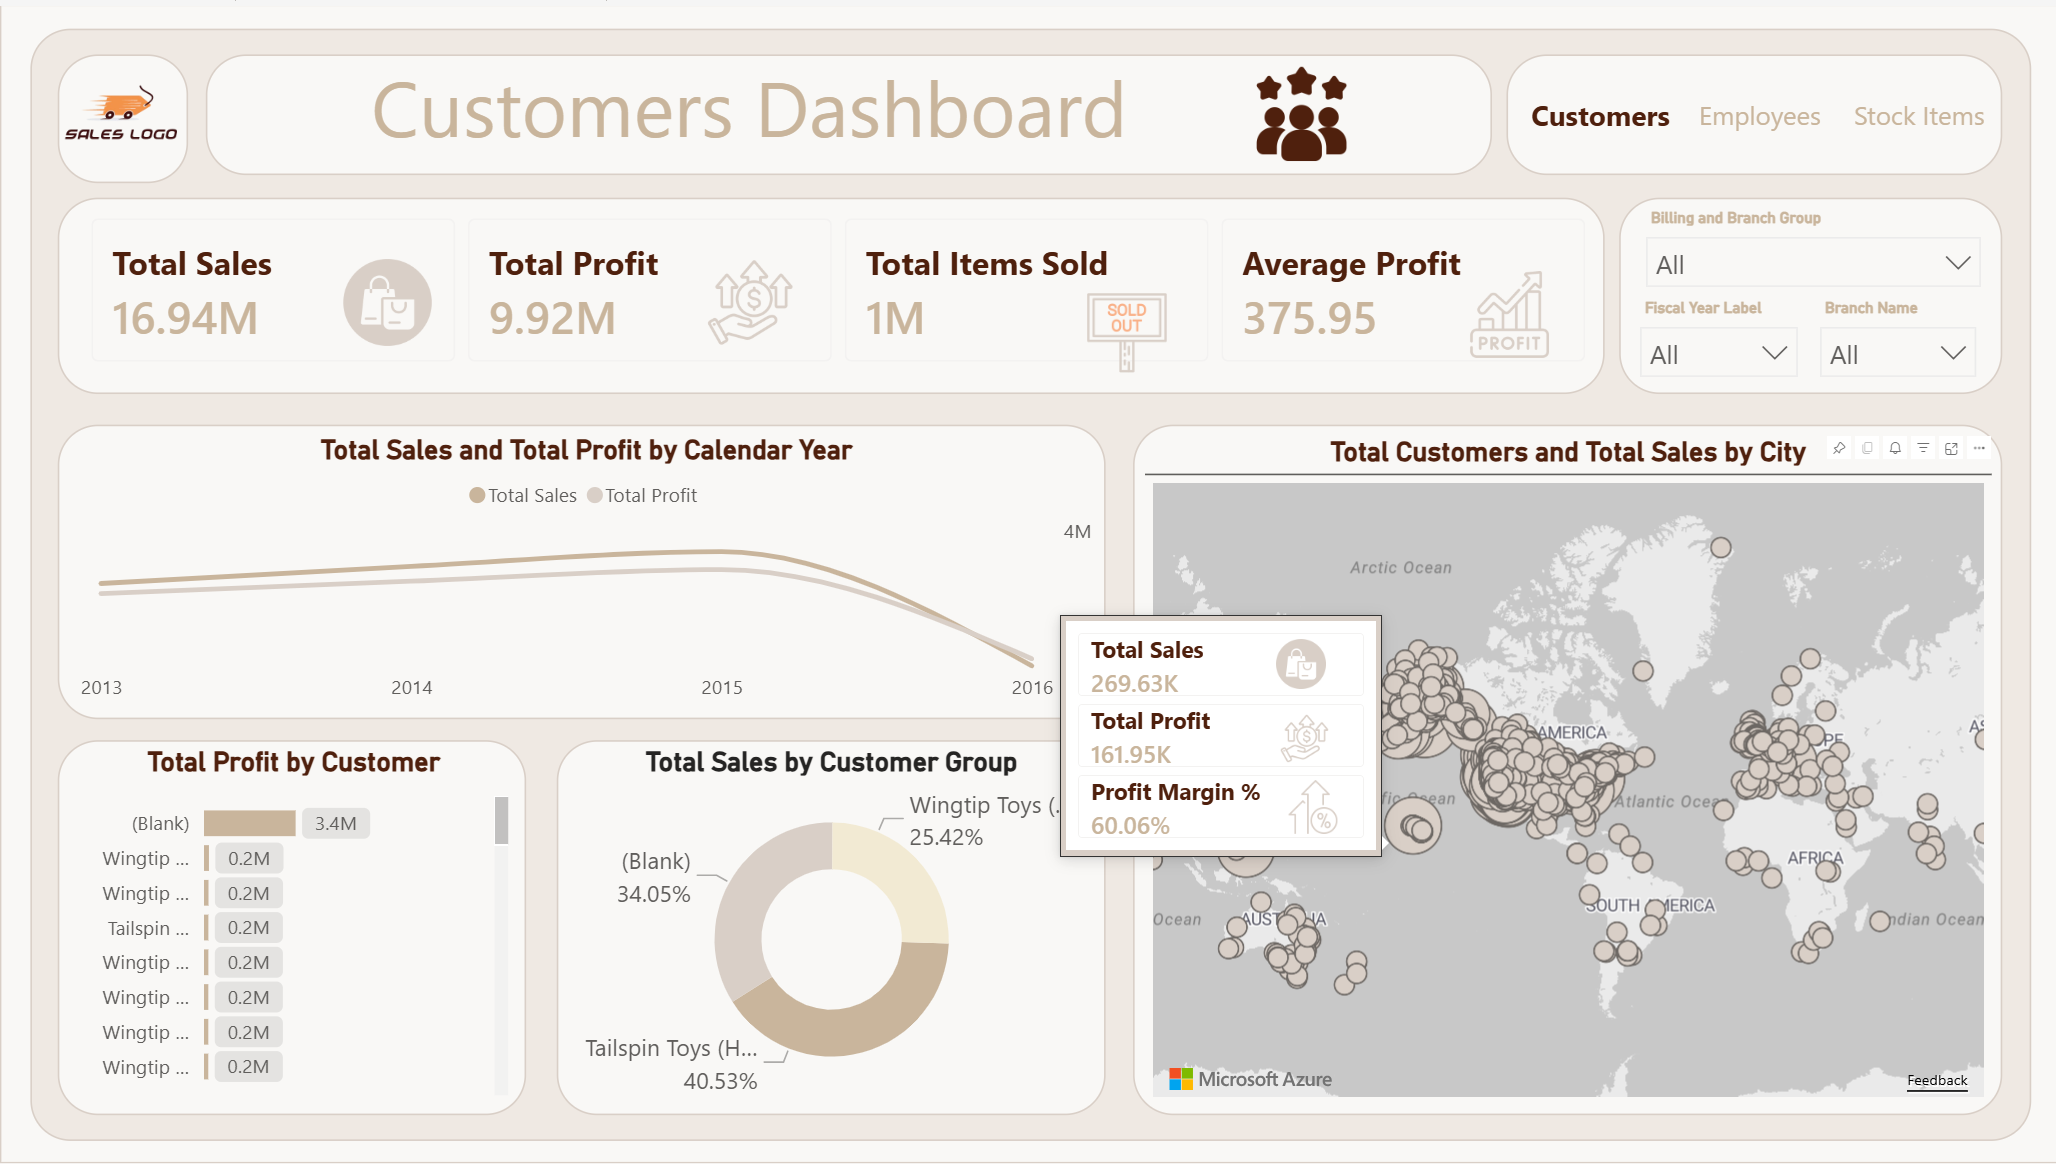

Layout of this report page (visuals, bound fields, positions):
{"tool":"powerbi","page":{"name":"Customers ","canvas":[1280,720],"ordinal":0},"visuals":[{"type":"cardVisual","fields":{"Data":["_Measures.Total Sales","_Measures.Total Profit","_Measures.Total Items Sold","_Measures.Average Profit per Sale"]},"box":[39.7,114.6,962.6,123.4],"z":0},{"type":"donutChart","title":"Total Sales by Customer Group","fields":{"Category":["DimCustomer.Billing and Branch Group"],"Y":["_Measures.Total Sales"]},"box":[355.6,459.2,322.6,222.6],"z":1000},{"type":"textbox","box":[136.7,24.2,657.6,96.3],"z":2000},{"type":"barChart","fields":{"Category":["DimCustomer.Customer"],"Y":["_Measures.Total Profit"]},"box":[44.8,459.2,275.5,222.6],"z":3000},{"type":"azureMap","fields":{"Category":["DimCity.City"],"Size":["_Measures.Total Sales"],"Y":["_Measures.Total Customers"]},"box":[711.3,266.7,526.1,415.2],"z":4000},{"type":"lineChart","fields":{"Category":["DimDate.Calendar Year"],"Y":["_Measures.Total Sales"],"Y2":["_Measures.Total Profit"]},"box":[44.8,265.3,639.3,176.3],"z":5000},{"type":"image","box":[745.8,33.8,124.9,66.9],"z":6000},{"type":"slicer","fields":{"Values":["DimDate.Fiscal Year Label"]},"box":[1008.9,176.3,117.6,70.5],"z":7000},{"type":"slicer","fields":{"Values":["DimCustomer.Billing and Branch Group"]},"box":[1012.5,120.5,227.8,55.8],"z":8000},{"type":"slicer","fields":{"Values":["DimCustomer.Branch Name"]},"box":[1120.6,176.3,116.8,70.5],"z":9000},{"type":"pageNavigator","box":[950.1,39.7,287.3,55.8],"z":10000},{"type":"image","box":[15.4,24.2,114.6,86.7],"z":11000},{"type":"image","box":[188.1,157.2,105.1,54.4],"z":12000},{"type":"image","box":[413,157.2,105.8,54.4],"z":13000},{"type":"image","box":[640,164.6,120.5,73.5],"z":14000},{"type":"image","box":[888.4,164.6,99.2,54.4],"z":15000}]}

Visuals, with their boxes in screenshot pixels (x1, y1, x2, y2), scaled from the page's 1280x720 canvas onto the 2056x1164 screenshot:
cardVisual - _Measures.Total Sales x _Measures.Total Profit: <bbox>64, 185, 1610, 385</bbox>
"Total Sales by Customer Group" donutChart: <bbox>571, 742, 1089, 1102</bbox>
textbox: <bbox>220, 39, 1276, 195</bbox>
barChart - DimCustomer.Customer x _Measures.Total Profit: <bbox>72, 742, 514, 1102</bbox>
azureMap - DimCity.City x _Measures.Total Sales: <bbox>1143, 431, 1988, 1102</bbox>
lineChart - DimDate.Calendar Year x _Measures.Total Sales: <bbox>72, 429, 1099, 714</bbox>
image: <bbox>1198, 55, 1399, 163</bbox>
slicer - DimDate.Fiscal Year Label: <bbox>1621, 285, 1809, 399</bbox>
slicer - DimCustomer.Billing and Branch Group: <bbox>1626, 195, 1992, 285</bbox>
slicer - DimCustomer.Branch Name: <bbox>1800, 285, 1988, 399</bbox>
pageNavigator: <bbox>1526, 64, 1988, 154</bbox>
image: <bbox>25, 39, 209, 179</bbox>
image: <bbox>302, 254, 471, 342</bbox>
image: <bbox>663, 254, 833, 342</bbox>
image: <bbox>1028, 266, 1222, 385</bbox>
image: <bbox>1427, 266, 1586, 354</bbox>
